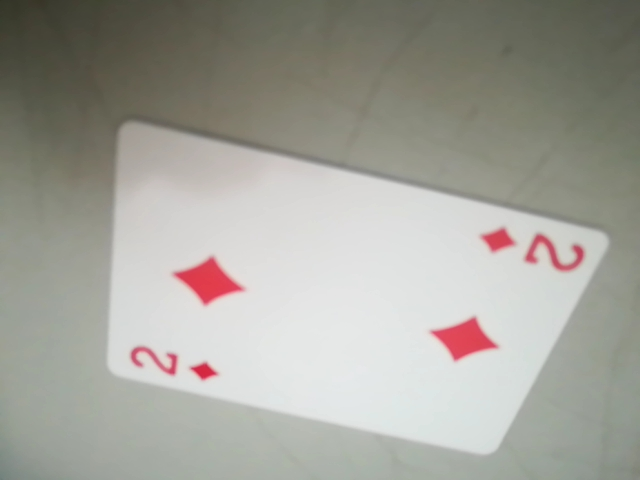fk 2: (472, 222, 598, 278), (121, 335, 231, 388)
